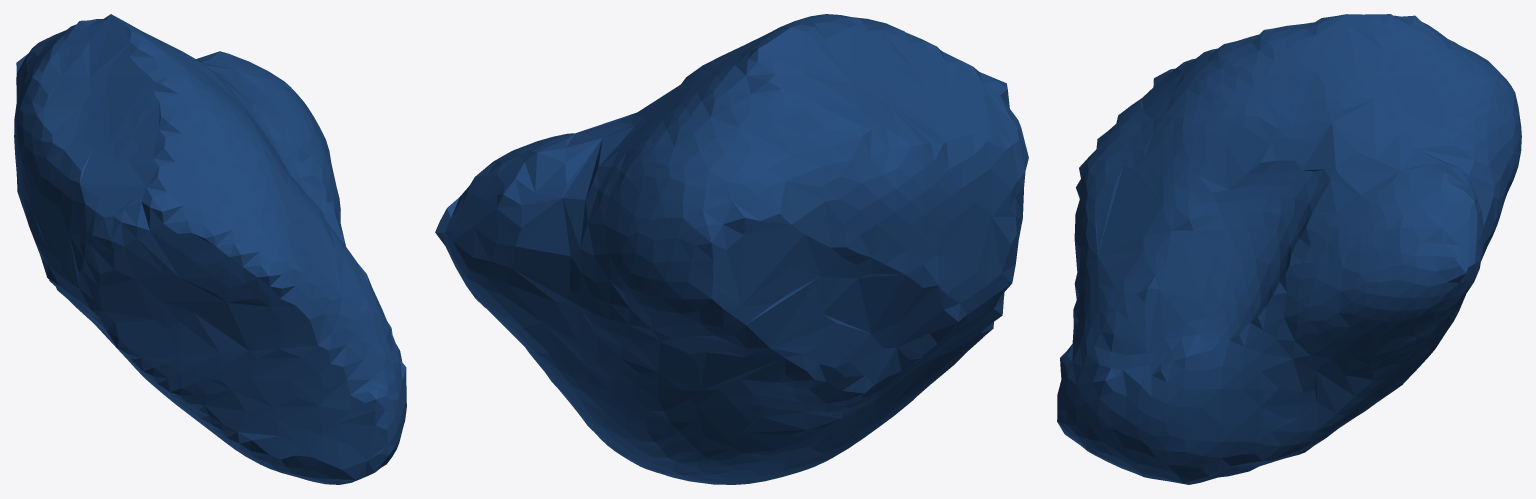
Rendered from Model_10255_LH__Medial_geniculate_nucleus_(MG).obj.
3 renders of one model, left to right at view 1: azimuth 30°, elevation 25°; view 2: azimuth 150°, elevation 25°; view 3: azimuth 270°, elevation 25°, orthographic. The views are drawn at different scales.
Size of the model in its own units: 1.91 by 2.28 by 2.39.
